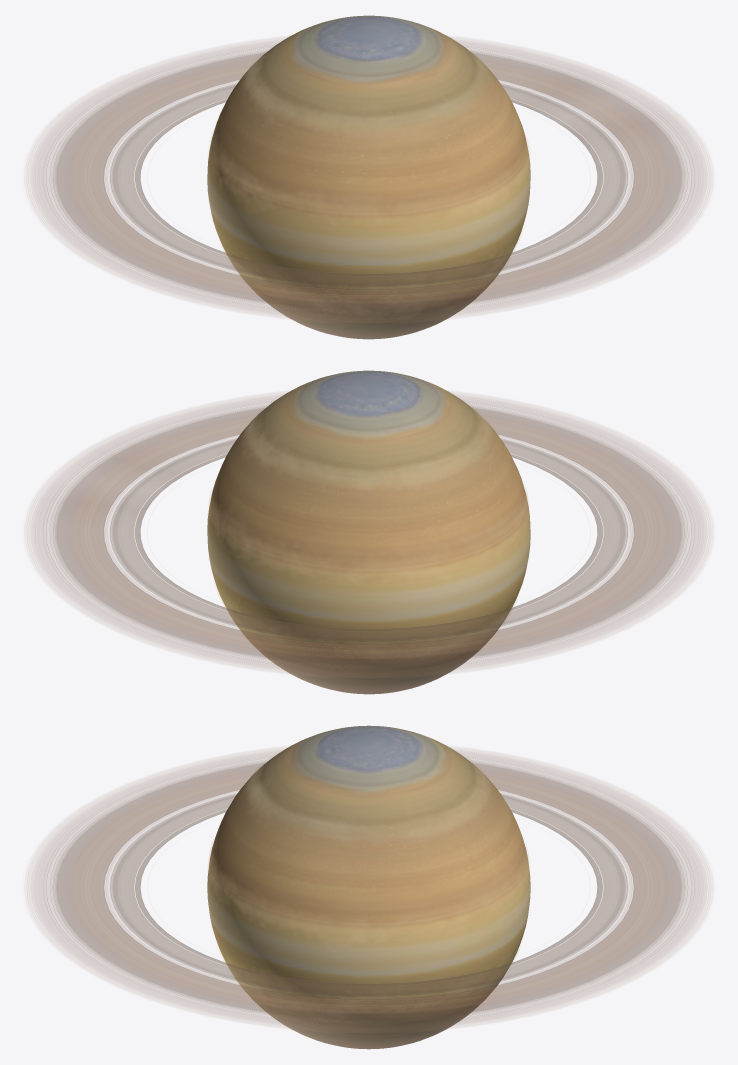
Rendered from Saturn.glb.
3 renders of one model, top to bottom at view 1: azimuth 30°, elevation 25°; view 2: azimuth 150°, elevation 25°; view 3: azimuth 270°, elevation 25°, orthographic.
Visible parts, largest first — view 1: Saturn_Globe_Opaque.001, Rings.001, Saturn_Clouds.001; view 2: Saturn_Globe_Opaque.001, Rings.001, Saturn_Clouds.001; view 3: Saturn_Globe_Opaque.001, Rings.001, Saturn_Clouds.001.
Boxes of the visible parts, left/top/right/bottom form: Saturn_Globe_Opaque.001: left=207, top=15, right=530, bottom=339; Rings.001: left=26, top=37, right=711, bottom=322; Saturn_Clouds.001: left=210, top=49, right=529, bottom=308; Saturn_Globe_Opaque.001: left=207, top=370, right=530, bottom=694; Rings.001: left=26, top=391, right=711, bottom=677; Saturn_Clouds.001: left=208, top=405, right=528, bottom=638; Saturn_Globe_Opaque.001: left=207, top=725, right=530, bottom=1049; Rings.001: left=26, top=747, right=711, bottom=1032; Saturn_Clouds.001: left=208, top=758, right=529, bottom=1005.
Bounding box in the file's own units: 2 × 0.9202 × 2.
Materials: 3 (3 with a texture image).
